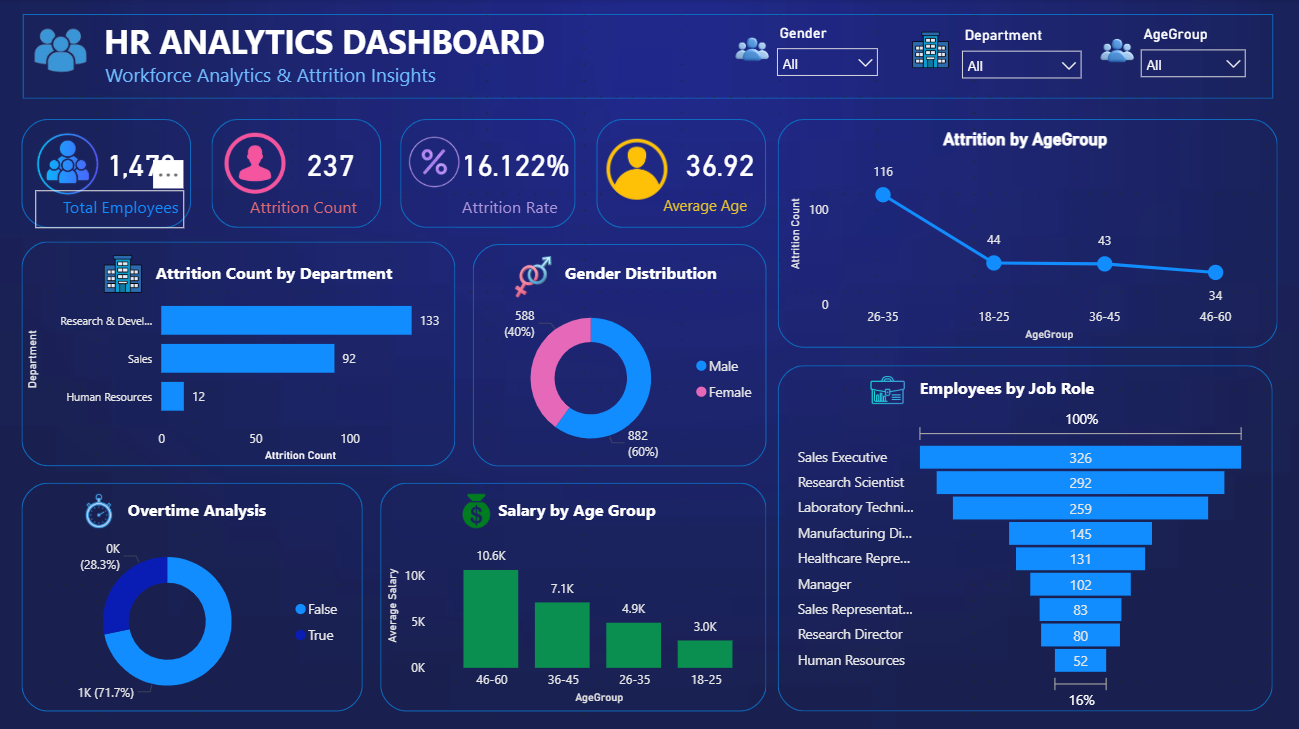

The dashboard page shown, as its layout file describes it:
{"tool":"powerbi","page":{"name":"Page 1","canvas":[1280,720],"ordinal":0},"visuals":[{"type":"shape","box":[766.8,118.2,492.3,225.2],"z":0},{"type":"shape","box":[766.8,360.6,487.4,340.9],"z":1000},{"type":"shape","box":[375.4,476.3,380.3,225.2],"z":2000},{"type":"shape","box":[22.2,476.3,336,225.2],"z":3000},{"type":"shape","box":[466.5,241.2,289.2,219.1],"z":4000},{"type":"shape","box":[22.3,239.3,427.1,221.2],"z":5000},{"type":"shape","box":[588.5,118.3,167,107.1],"z":6000},{"type":"shape","box":[395.1,118.3,172.5,107.1],"z":7000},{"type":"shape","box":[208.7,118.3,167,107.1],"z":8000},{"type":"shape","box":[22.3,118.3,167,107.1],"z":9000},{"type":"shape","box":[23.7,15.3,1231.3,83.5],"z":10000},{"type":"card","fields":{"Values":["DimAgeGroup.Total Employees"]},"box":[98.8,118.3,83.5,89],"z":11000},{"type":"card","fields":{"Values":["DimAgeGroup.Attrition Count"]},"box":[276.9,118.3,98.8,89],"z":12000},{"type":"card","fields":{"Values":["DimAgeGroup.Attrition Rate"]},"box":[449.4,118.3,118.3,89],"z":13000},{"type":"card","fields":{"Values":["DimAgeGroup.Average Age"]},"box":[658.1,118.3,103,89],"z":14000},{"type":"clusteredBarChart","fields":{"Category":["DimDepartment.Department"],"Y":["DimAgeGroup.Attrition Count"]},"box":[22.3,274.1,427.1,186.4],"z":15000},{"type":"donutChart","title":"Gender Distribution","fields":{"Category":["DimGender.Gender"],"Y":["DimAgeGroup.Total Employees"]},"box":[475.1,283.1,280.6,180.9],"z":16000},{"type":"clusteredColumnChart","title":"Salary by AgeGroup","fields":{"Category":["DimAgeGroup.AgeGroup"],"Y":["DimAgeGroup.Average Salary"]},"box":[377,521.7,381.2,176.7],"z":17000},{"type":"funnel","title":"Employees by JobRole","fields":{"Category":["DimJobRole.JobRole"],"Y":["DimAgeGroup.Total Employees"]},"box":[781.5,398.8,451.7,305.2],"z":18000},{"type":"donutChart","title":"Overtime Analysis","fields":{"Category":["HR-Employee-Attrition.OverTime"],"Y":["DimAgeGroup.Total Employees"]},"box":[35.7,521.8,311.4,182.2],"z":19000},{"type":"lineChart","title":"Attrition by AgeGroup","fields":{"Category":["DimAgeGroup.AgeGroup"],"Y":["DimAgeGroup.Attrition Count"]},"box":[774.2,128,472.6,212.9],"z":20000},{"type":"slicer","fields":{"Values":["DimDepartment.Department"]},"box":[937.8,22.2,137.8,73.8],"z":21000},{"type":"slicer","fields":{"Values":["DimGender.Gender"]},"box":[755.5,19.5,119.7,73.7],"z":22000},{"type":"slicer","fields":{"Values":["DimAgeGroup.AgeGroup"]},"box":[1114.4,20.9,123.8,73.7],"z":23000},{"type":"image","box":[22.3,15.3,76.5,72.3],"z":24000},{"type":"textbox","box":[98.8,15.3,517.6,66.8],"z":25000},{"type":"textbox","box":[100.2,57,467.5,41.7],"z":26000},{"type":"image","box":[716.5,22.3,50.1,55.7],"z":27000},{"type":"image","box":[897.4,22.3,40.3,55.7],"z":28000},{"type":"image","box":[1075.5,23.7,50.1,55.7],"z":29000},{"type":"image","box":[36.2,128,64,69.6],"z":30000},{"type":"textbox","box":[36.2,187.8,146.1,37.6],"z":31000},{"type":"image","box":[211.5,132.2,80.7,59.8],"z":32000},{"type":"textbox","box":[224,187.8,133.6,37.6],"z":33000},{"type":"image","box":[395.1,87.7,73.7,137.7],"z":34000},{"type":"textbox","box":[395.1,187.8,160,37.6],"z":35000},{"type":"image","box":[598.3,128,59.8,79.3],"z":36000},{"type":"textbox","box":[598.3,187.8,143.3,37.6],"z":37000},{"type":"image","box":[89.8,249.8,64,41.8],"z":38000},{"type":"textbox","box":[109.5,253.5,322.5,41.8],"z":39000},{"type":"image","box":[494.8,249.8,60.3,48],"z":40000},{"type":"textbox","box":[508.3,253.5,247.4,41.8],"z":41000},{"type":"image","box":[60.3,486.2,76.3,35.7],"z":42000},{"type":"textbox","box":[121.8,486.2,211.7,35.7],"z":43000},{"type":"textbox","box":[466.5,486.2,205.5,35.7],"z":44000},{"type":"image","box":[432,486.2,76.3,35.7],"z":45000},{"type":"image","box":[836.9,366.8,76.3,35.7],"z":46000},{"type":"textbox","box":[884.9,366.8,215.4,35.7],"z":47000}]}

Visuals, with their boxes in screenshot pixels (x1, y1, x2, y2), scaled from the page's 1280x720 canvas onto the 1299x729 screenshot:
shape: [left=778, top=120, right=1278, bottom=348]
shape: [left=778, top=365, right=1273, bottom=710]
shape: [left=381, top=482, right=767, bottom=710]
shape: [left=23, top=482, right=364, bottom=710]
shape: [left=473, top=244, right=767, bottom=466]
shape: [left=23, top=242, right=456, bottom=466]
shape: [left=597, top=120, right=767, bottom=228]
shape: [left=401, top=120, right=576, bottom=228]
shape: [left=212, top=120, right=381, bottom=228]
shape: [left=23, top=120, right=192, bottom=228]
shape: [left=24, top=15, right=1274, bottom=100]
card - DimAgeGroup.Total Employees: [left=100, top=120, right=185, bottom=210]
card - DimAgeGroup.Attrition Count: [left=281, top=120, right=381, bottom=210]
card - DimAgeGroup.Attrition Rate: [left=456, top=120, right=576, bottom=210]
card - DimAgeGroup.Average Age: [left=668, top=120, right=772, bottom=210]
clusteredBarChart - DimDepartment.Department x DimAgeGroup.Attrition Count: [left=23, top=278, right=456, bottom=466]
"Gender Distribution" donutChart: [left=482, top=287, right=767, bottom=470]
"Salary by AgeGroup" clusteredColumnChart: [left=383, top=528, right=769, bottom=707]
"Employees by JobRole" funnel: [left=793, top=404, right=1252, bottom=713]
"Overtime Analysis" donutChart: [left=36, top=528, right=352, bottom=713]
"Attrition by AgeGroup" lineChart: [left=786, top=130, right=1265, bottom=345]
slicer - DimDepartment.Department: [left=952, top=22, right=1092, bottom=97]
slicer - DimGender.Gender: [left=767, top=20, right=888, bottom=94]
slicer - DimAgeGroup.AgeGroup: [left=1131, top=21, right=1257, bottom=96]
image: [left=23, top=15, right=100, bottom=89]
textbox: [left=100, top=15, right=626, bottom=83]
textbox: [left=102, top=58, right=576, bottom=100]
image: [left=727, top=23, right=778, bottom=79]
image: [left=911, top=23, right=952, bottom=79]
image: [left=1091, top=24, right=1142, bottom=80]
image: [left=37, top=130, right=102, bottom=200]
textbox: [left=37, top=190, right=185, bottom=228]
image: [left=215, top=134, right=297, bottom=194]
textbox: [left=227, top=190, right=363, bottom=228]
image: [left=401, top=89, right=476, bottom=228]
textbox: [left=401, top=190, right=563, bottom=228]
image: [left=607, top=130, right=668, bottom=210]
textbox: [left=607, top=190, right=753, bottom=228]
image: [left=91, top=253, right=156, bottom=295]
textbox: [left=111, top=257, right=438, bottom=299]
image: [left=502, top=253, right=563, bottom=302]
textbox: [left=516, top=257, right=767, bottom=299]
image: [left=61, top=492, right=139, bottom=528]
textbox: [left=124, top=492, right=338, bottom=528]
textbox: [left=473, top=492, right=682, bottom=528]
image: [left=438, top=492, right=516, bottom=528]
image: [left=849, top=371, right=927, bottom=408]
textbox: [left=898, top=371, right=1117, bottom=408]
